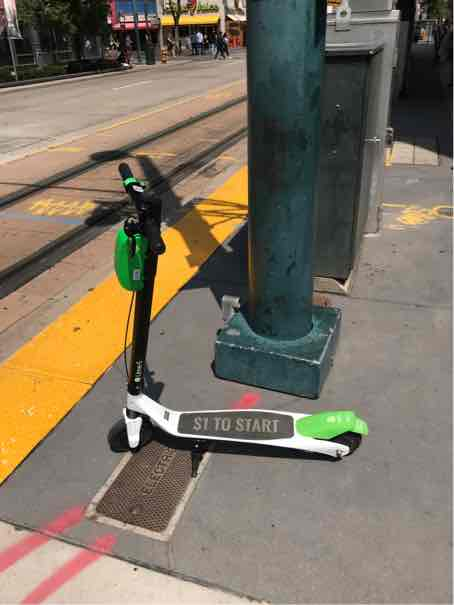scooter: (83, 140, 372, 477)
